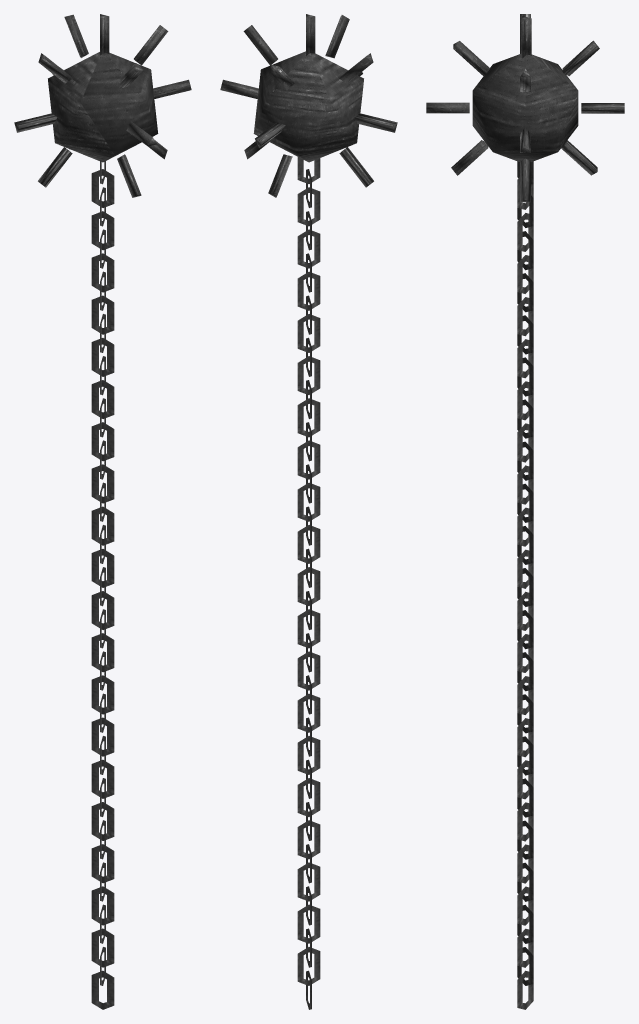
File: naval_mine.glb
The picture shows the model from 3 angles, left to right: view 1: azimuth 30°, elevation 25°; view 2: azimuth 150°, elevation 25°; view 3: azimuth 270°, elevation 25°; orthographic projection.
Visible parts, largest first — view 1: chains, hull, hertz horn; view 2: chains, hull, hertz horn; view 3: chains, hull, hertz horn.
Part boxes in pixels (x1,y1,x2,y2): chains: (91, 160, 114, 1009); hull: (48, 52, 158, 162); hertz horn: (14, 14, 191, 197); chains: (297, 157, 320, 1009); hull: (253, 51, 363, 162); hertz horn: (220, 14, 397, 197); chains: (517, 161, 533, 1009); hull: (472, 53, 578, 161); hertz horn: (426, 14, 624, 202).
Bounding box in the file's own units: 3.2 × 17.66 × 3.2.
2 materials, 2 textured.
